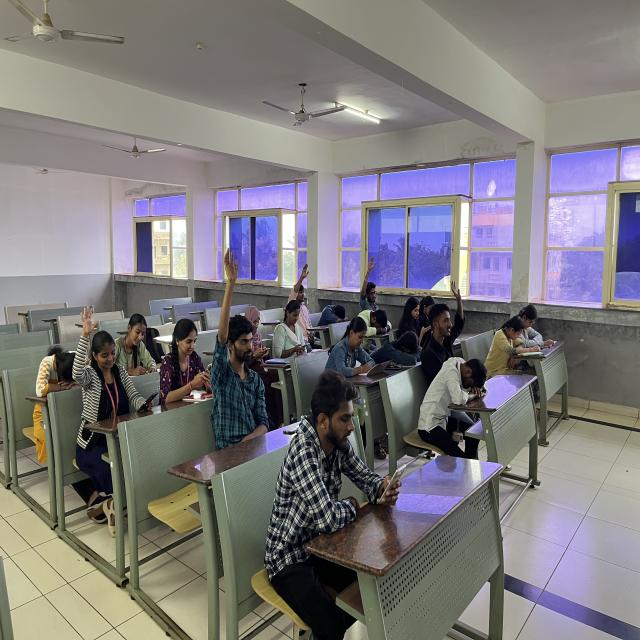Hand Rising: (206, 240, 274, 436), (69, 303, 122, 418), (421, 274, 464, 368), (282, 257, 318, 326), (356, 253, 386, 317)
Reading: (484, 314, 534, 365), (516, 303, 556, 349)
Sleeping: (413, 351, 509, 448), (30, 340, 92, 407), (346, 304, 400, 344), (314, 300, 352, 328)
Using Phone: (262, 363, 408, 557), (158, 314, 221, 399), (396, 294, 433, 343)
Writing: (322, 314, 389, 380), (110, 298, 163, 381)
